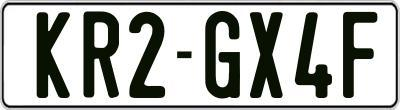2: (126, 9, 165, 95)
4: (292, 11, 334, 103)
F: (340, 11, 375, 102)
G: (203, 10, 243, 103)
K: (36, 11, 72, 98)
R: (81, 10, 119, 101)
X: (250, 11, 285, 99)
